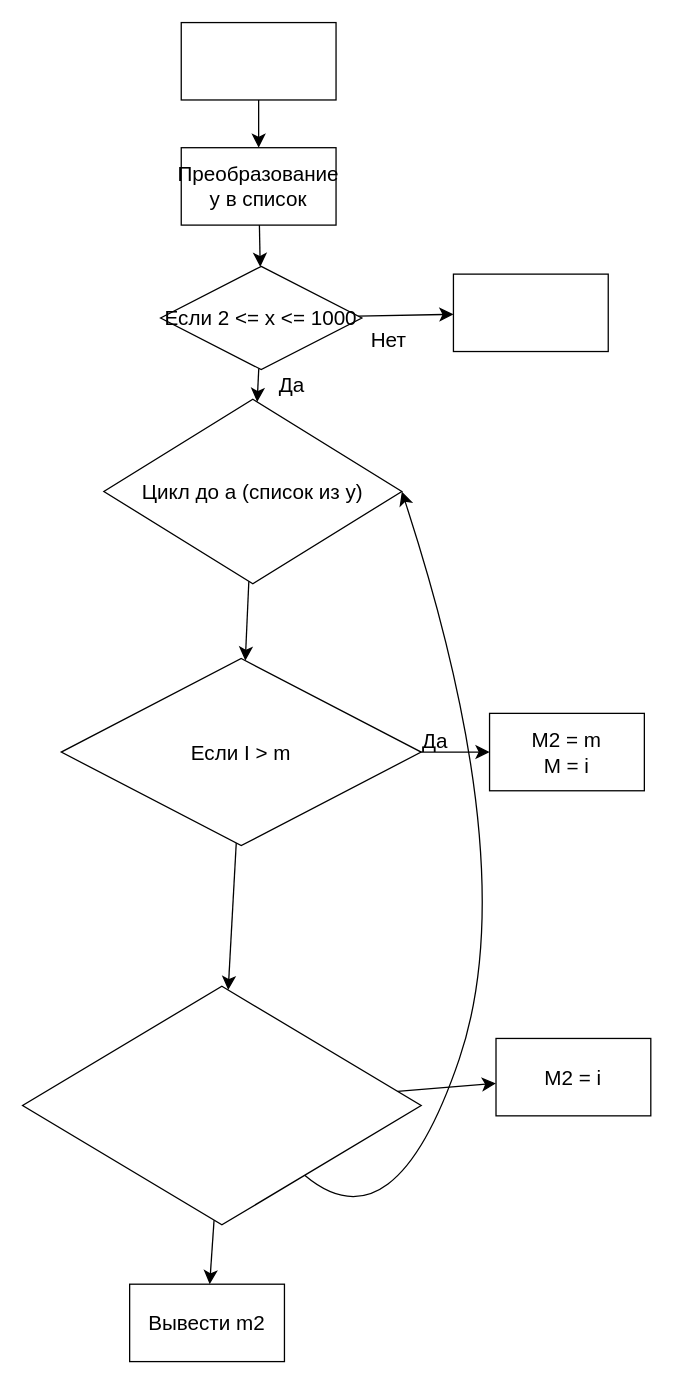
The diagram is 673 pixels wide and 1384 high, and some of its shapes have lost their labels. Here are the shapes that lost their labels. From the top down, the centre of each, then its label:
At point (258, 60): "Ввод x, y".
At point (530, 312): "Ошибка".
At point (221, 1105): "Если I > m2".
